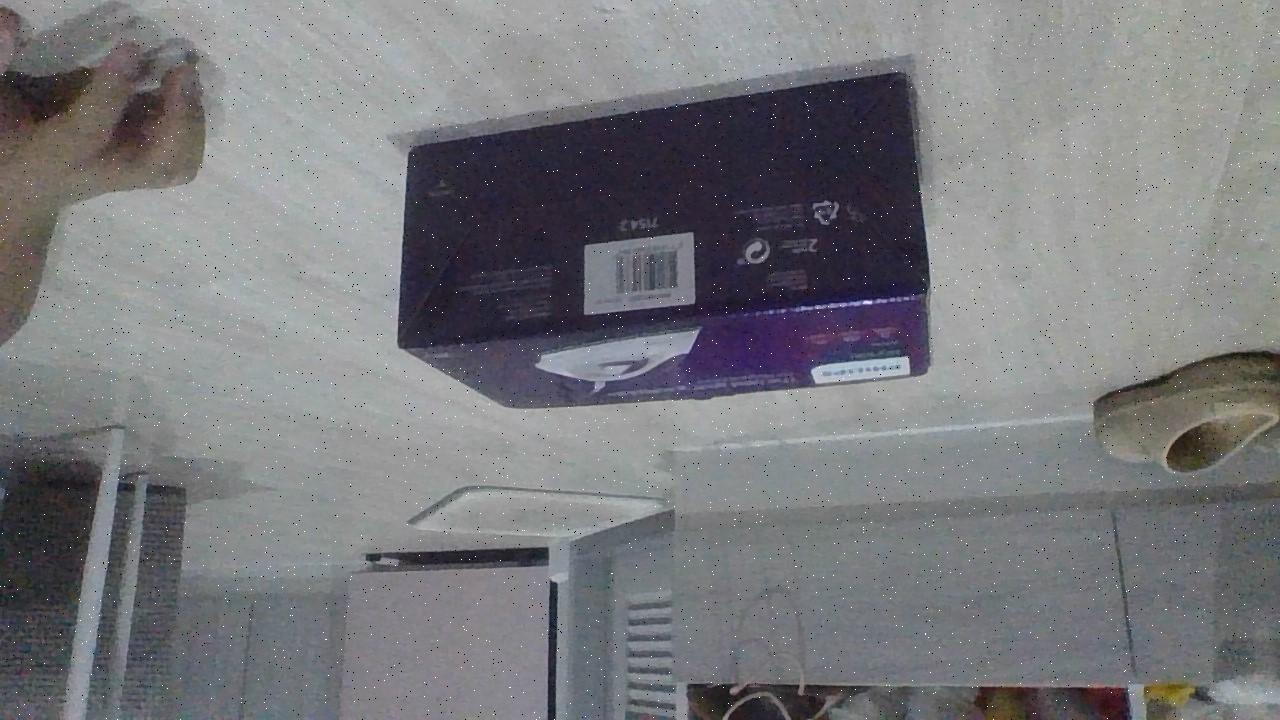IRON: (393, 69, 938, 415)
